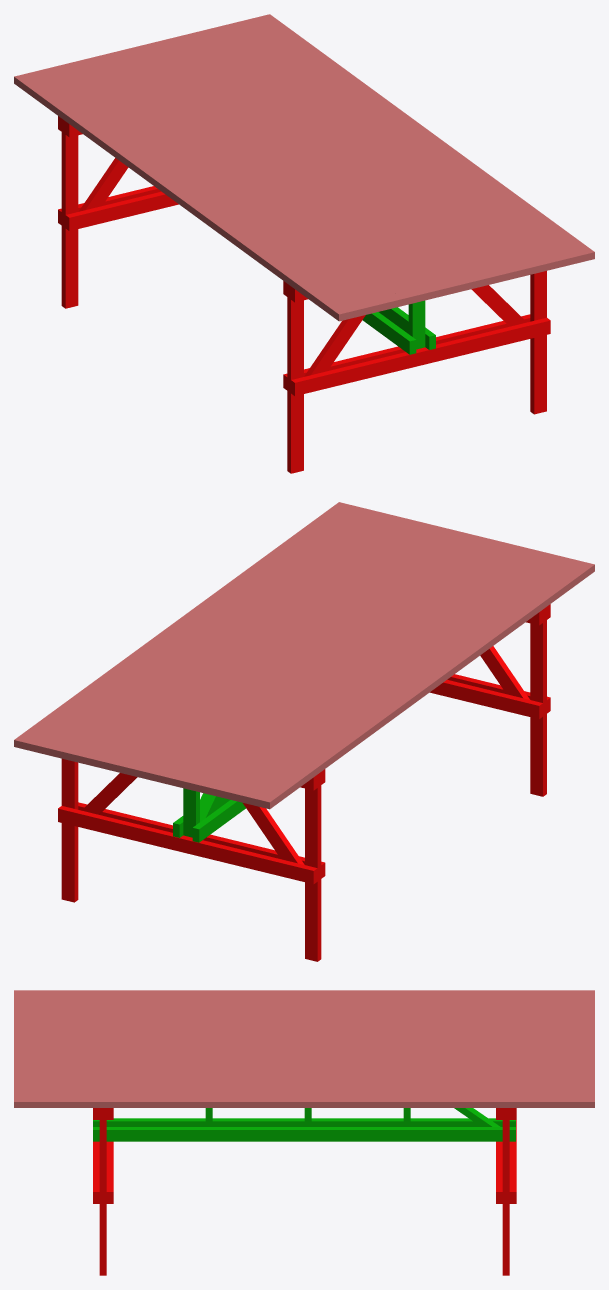
Rendered from result.glb.
The picture shows the model from 3 angles, top to bottom: view 1: azimuth 30°, elevation 25°; view 2: azimuth 150°, elevation 25°; view 3: azimuth 270°, elevation 25°; orthographic projection. The views are drawn at different scales.
Visible parts, largest first — view 1: 0c2c5c58-3289-4e28-ad81-105cdfc15413__Box, 32b26346-c009-41c0-abd0-724eade1ab64__sideH, 8bfaaf63-8383-4be1-881e-5b4c506c79b4__undefined, 615c6929-274d-453e-b9b3-c7b0340d0b40__undefined, d3de23f6-ddab-456a-bed6-7daddba5db81__undefined, d41eec4b-f444-44fa-b235-17a3237f8422__undefined, e025cb20-e575-402f-83fd-ad1e047703a4__undefined, a24eff54-321b-47da-81d6-510578df30f6__undefined, c5e08b09-e4a9-41cd-9130-2dd1c31a03ca__undefined, 98c87aef-6532-494f-9646-15ff7a16cf3a__undefined, 04e94260-37f1-469e-a218-6a6c6efc63a9__undefined, ac58750b-65f2-4f12-8624-23b459c51026__undefined (+20 smaller); view 2: 0c2c5c58-3289-4e28-ad81-105cdfc15413__Box, a1f873f8-3f25-49f0-95bf-a63a1ccdab3a__undefined, 04e94260-37f1-469e-a218-6a6c6efc63a9__undefined, 98c87aef-6532-494f-9646-15ff7a16cf3a__undefined, d41eec4b-f444-44fa-b235-17a3237f8422__undefined, ac58750b-65f2-4f12-8624-23b459c51026__undefined, a24eff54-321b-47da-81d6-510578df30f6__undefined, 615c6929-274d-453e-b9b3-c7b0340d0b40__undefined, e025cb20-e575-402f-83fd-ad1e047703a4__undefined, d3de23f6-ddab-456a-bed6-7daddba5db81__undefined, 8bfaaf63-8383-4be1-881e-5b4c506c79b4__undefined, c5e08b09-e4a9-41cd-9130-2dd1c31a03ca__undefined (+19 smaller); view 3: a699dab7-870d-44f0-a88c-70e5e53d284b__undefined, 66a4d13c-773b-44ce-8e06-3c5d56b60af4__strutH, 76448bbc-ed1d-4aa5-bf8f-daf76e13ef55__undefined, 67c2038b-122e-419c-adad-ec84219725a3__undefined, d41eec4b-f444-44fa-b235-17a3237f8422__undefined, 8bfaaf63-8383-4be1-881e-5b4c506c79b4__undefined, a24eff54-321b-47da-81d6-510578df30f6__undefined, 0c2c5c58-3289-4e28-ad81-105cdfc15413__Box, 80854d0b-c8a7-4575-9348-ecda3407c419__undefined, 98c87aef-6532-494f-9646-15ff7a16cf3a__undefined, 615c6929-274d-453e-b9b3-c7b0340d0b40__undefined, d403f126-7146-4523-8056-60586a1db223__undefined (+17 smaller).
Boxes of the visible parts, x1,y1,x2,y2 form: 0c2c5c58-3289-4e28-ad81-105cdfc15413__Box: [14, 73, 351, 321]; 32b26346-c009-41c0-abd0-724eade1ab64__sideH: [291, 317, 550, 395]; 8bfaaf63-8383-4be1-881e-5b4c506c79b4__undefined: [219, 23, 556, 271]; 615c6929-274d-453e-b9b3-c7b0340d0b40__undefined: [52, 64, 390, 311]; d3de23f6-ddab-456a-bed6-7daddba5db81__undefined: [104, 51, 441, 299]; d41eec4b-f444-44fa-b235-17a3237f8422__undefined: [155, 39, 492, 286]; e025cb20-e575-402f-83fd-ad1e047703a4__undefined: [181, 33, 518, 280]; a24eff54-321b-47da-81d6-510578df30f6__undefined: [244, 17, 582, 265]; c5e08b09-e4a9-41cd-9130-2dd1c31a03ca__undefined: [232, 20, 569, 268]; 98c87aef-6532-494f-9646-15ff7a16cf3a__undefined: [40, 67, 377, 314]; 04e94260-37f1-469e-a218-6a6c6efc63a9__undefined: [117, 48, 454, 296]; ac58750b-65f2-4f12-8624-23b459c51026__undefined: [168, 36, 505, 283]; 0c2c5c58-3289-4e28-ad81-105cdfc15413__Box: [257, 561, 594, 809]; a1f873f8-3f25-49f0-95bf-a63a1ccdab3a__undefined: [58, 806, 317, 884]; 04e94260-37f1-469e-a218-6a6c6efc63a9__undefined: [154, 536, 492, 784]; 98c87aef-6532-494f-9646-15ff7a16cf3a__undefined: [231, 555, 568, 802]; d41eec4b-f444-44fa-b235-17a3237f8422__undefined: [116, 527, 453, 774]; ac58750b-65f2-4f12-8624-23b459c51026__undefined: [103, 524, 440, 771]; a24eff54-321b-47da-81d6-510578df30f6__undefined: [26, 505, 363, 752]; 615c6929-274d-453e-b9b3-c7b0340d0b40__undefined: [218, 552, 556, 799]; e025cb20-e575-402f-83fd-ad1e047703a4__undefined: [90, 521, 427, 768]; d3de23f6-ddab-456a-bed6-7daddba5db81__undefined: [167, 539, 504, 787]; 8bfaaf63-8383-4be1-881e-5b4c506c79b4__undefined: [52, 511, 389, 759]; c5e08b09-e4a9-41cd-9130-2dd1c31a03ca__undefined: [39, 508, 376, 755]; a699dab7-870d-44f0-a88c-70e5e53d284b__undefined: [14, 1096, 594, 1107]; 66a4d13c-773b-44ce-8e06-3c5d56b60af4__strutH: [93, 1127, 515, 1141]; 76448bbc-ed1d-4aa5-bf8f-daf76e13ef55__undefined: [14, 1012, 594, 1018]; 67c2038b-122e-419c-adad-ec84219725a3__undefined: [14, 1023, 594, 1029]; d41eec4b-f444-44fa-b235-17a3237f8422__undefined: [14, 1051, 594, 1057]; 8bfaaf63-8383-4be1-881e-5b4c506c79b4__undefined: [14, 1079, 594, 1085]; a24eff54-321b-47da-81d6-510578df30f6__undefined: [14, 1090, 594, 1096]; 0c2c5c58-3289-4e28-ad81-105cdfc15413__Box: [14, 990, 594, 995]; 80854d0b-c8a7-4575-9348-ecda3407c419__undefined: [14, 996, 594, 1001]; 98c87aef-6532-494f-9646-15ff7a16cf3a__undefined: [14, 1001, 594, 1006]; 615c6929-274d-453e-b9b3-c7b0340d0b40__undefined: [14, 1007, 594, 1012]; d403f126-7146-4523-8056-60586a1db223__undefined: [14, 1018, 594, 1023].
Bounding box in the file's own units: 1000 × 726 × 2200.
